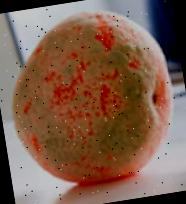Orange Rotten: (0, 0, 186, 202)
